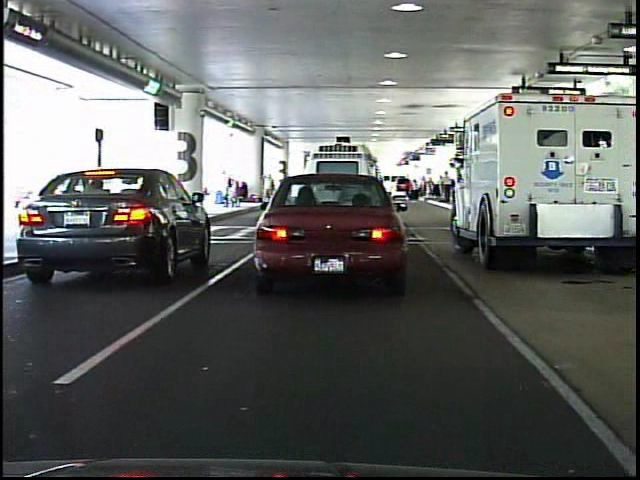person: (260, 171, 276, 206)
